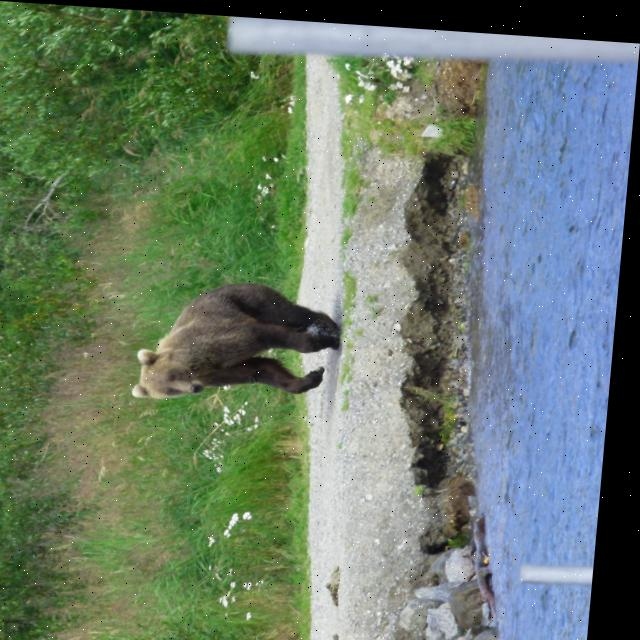bear face: (138, 277, 346, 406)
